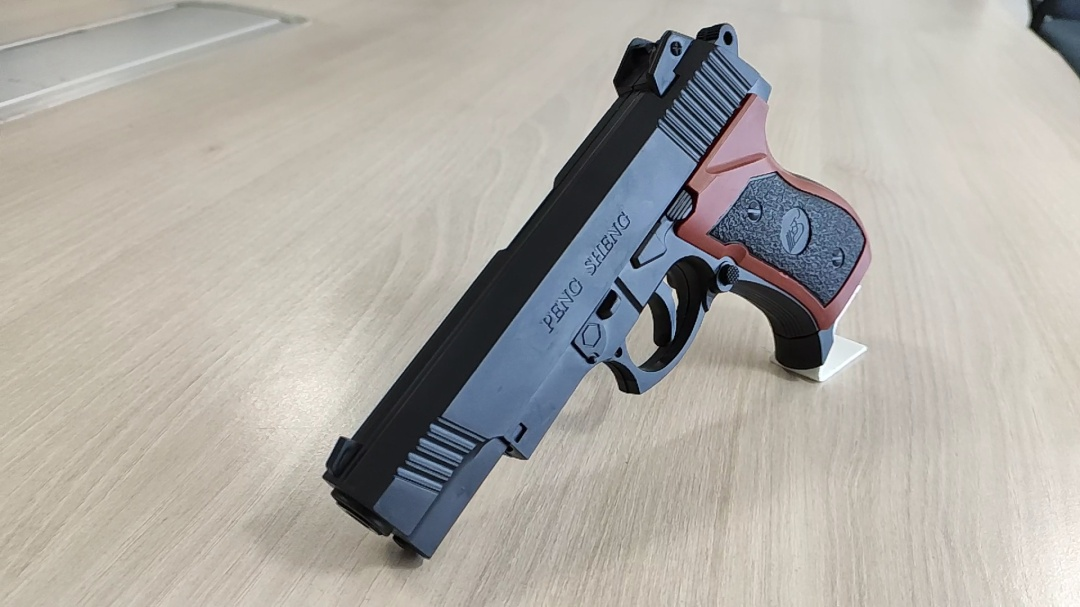gun: (594, 190, 616, 203)
